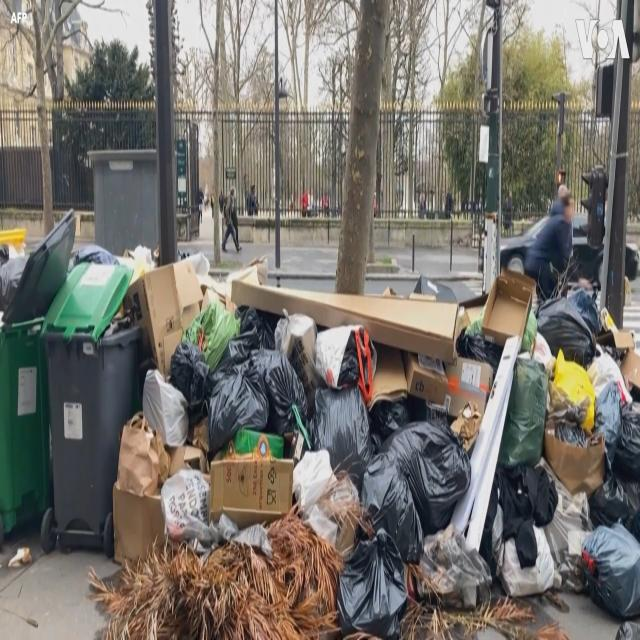high trash: (92, 267, 640, 638)
less trash: (8, 547, 31, 566)
